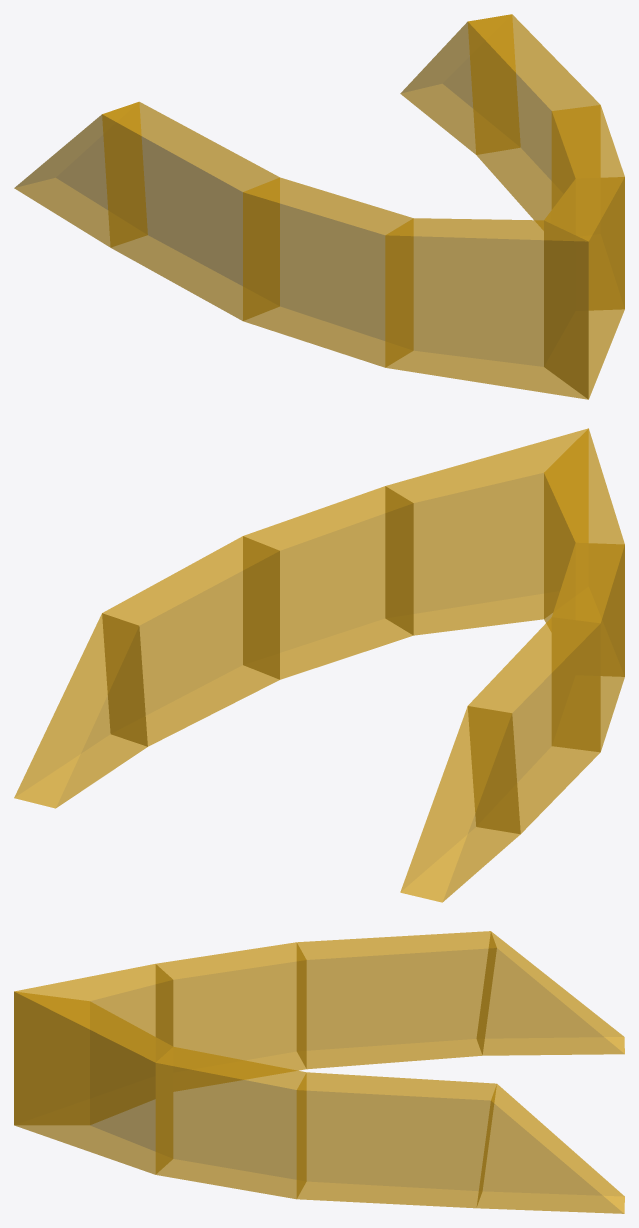
The model's file is SM_Veh_Ship_M_Front_01_Collision.fbx.
3 renders of one model, top to bottom at view 1: azimuth 30°, elevation 25°; view 2: azimuth 150°, elevation 25°; view 3: azimuth 270°, elevation 25°, orthographic. The views are drawn at different scales.
Visible parts, largest first — view 1: SM_Veh_Ship_M_Front_01_Collision; view 2: SM_Veh_Ship_M_Front_01_Collision; view 3: SM_Veh_Ship_M_Front_01_Collision.
Boxes of the visible parts, x1,y1,x2,y2 form: SM_Veh_Ship_M_Front_01_Collision: [14, 14, 624, 399]; SM_Veh_Ship_M_Front_01_Collision: [14, 428, 624, 902]; SM_Veh_Ship_M_Front_01_Collision: [14, 931, 624, 1213].
Size of the model in its own units: 702 by 248 by 1023.
